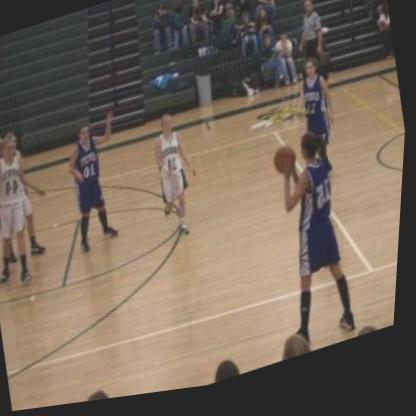basketball: (268, 147, 306, 189)
